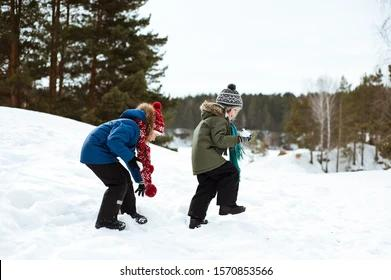coat: (76, 103, 156, 182), (190, 100, 242, 175)
trousers: (84, 160, 138, 223), (187, 159, 240, 220)
